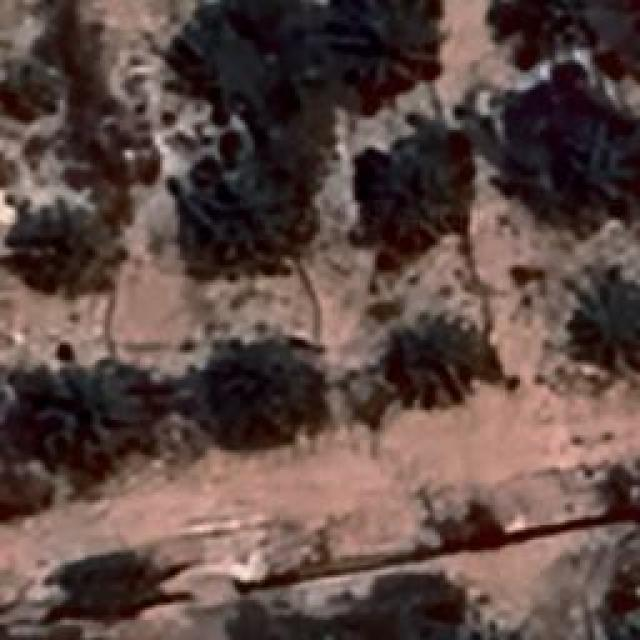PalmTree: (105, 72, 588, 165), (90, 24, 542, 72), (11, 352, 139, 458), (187, 172, 295, 272), (204, 346, 316, 439), (338, 0, 442, 98), (364, 138, 468, 236), (0, 196, 92, 291), (384, 308, 482, 396), (168, 30, 262, 118), (565, 275, 640, 360), (0, 67, 62, 132)
